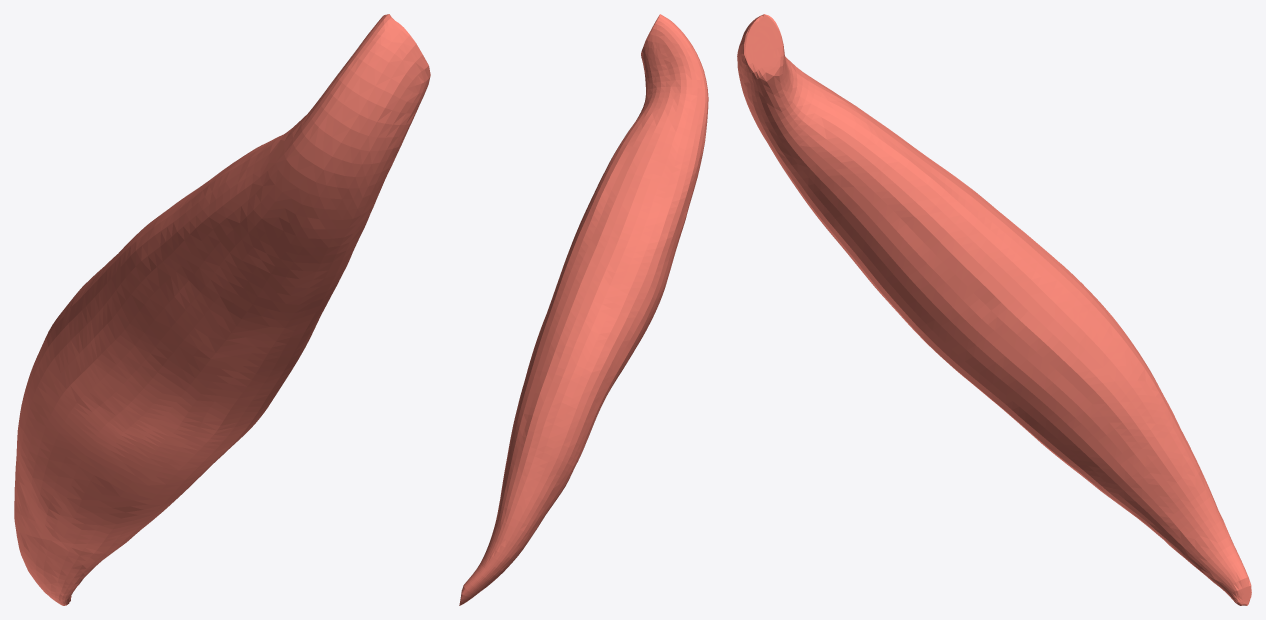
Rendered from M_triceps_medial.glb.
3 renders of one model, left to right at view 1: azimuth 30°, elevation 25°; view 2: azimuth 150°, elevation 25°; view 3: azimuth 270°, elevation 25°, orthographic. The views are drawn at different scales.
Visible parts, largest first — view 1: M_triceps_medial; view 2: M_triceps_medial; view 3: M_triceps_medial.
Boxes of the visible parts, left/top/right/bottom form: M_triceps_medial: left=14, top=14, right=430, bottom=605; M_triceps_medial: left=459, top=14, right=708, bottom=605; M_triceps_medial: left=737, top=14, right=1251, bottom=605.
Size of the model in its own units: 0.000754 by 0.00369 by 0.00294.
